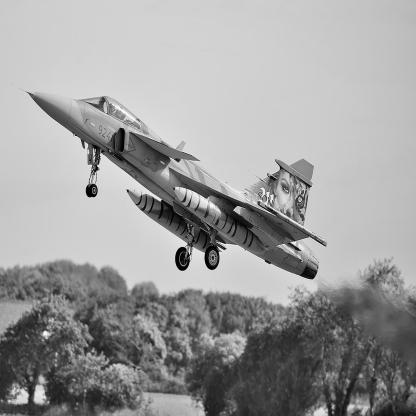JAS39: (12, 84, 329, 281)
